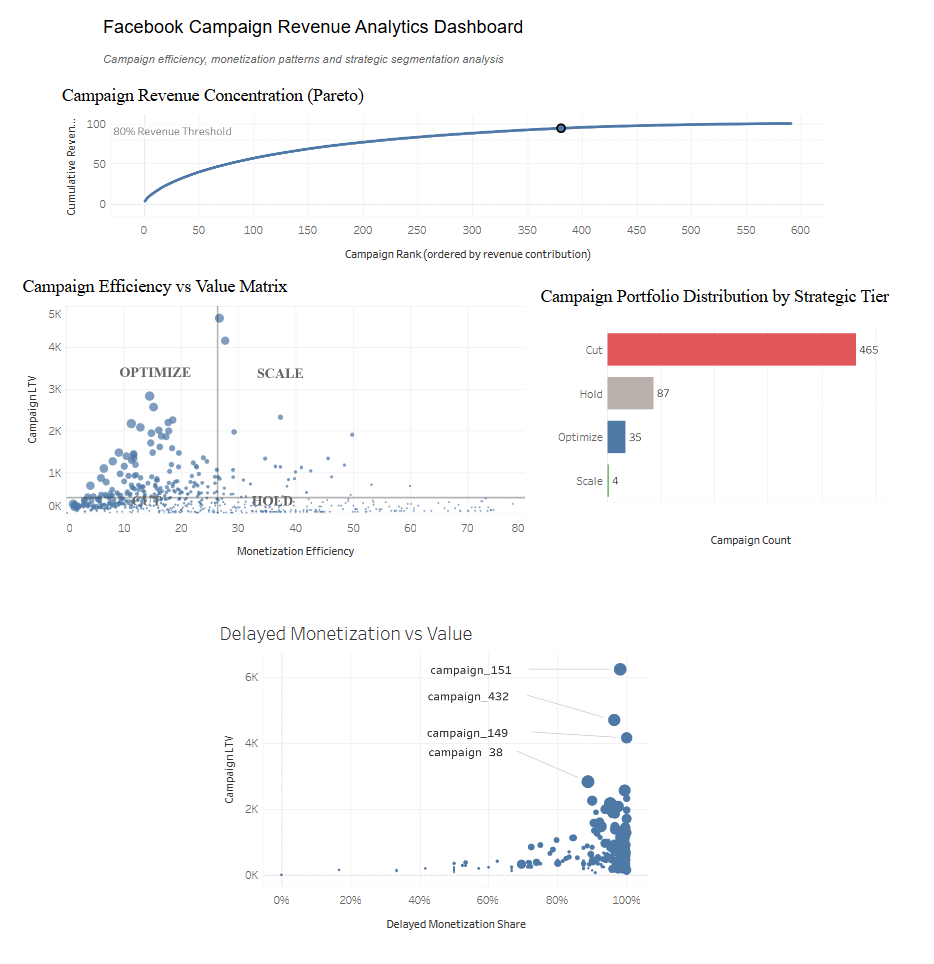

Layout of this report page (visuals, bound fields, positions):
{"tool":"tableau","page":{"name":"Dashboard","canvas":[1200,1400],"ordinal":0},"visuals":[{"type":"text","box":[129,9,746,110]},{"type":"worksheet","title":"Revenue Concentration (Pareto Analysis)","mark":"Line","rows":["cumulative_revenue_share_pct"],"cols":["campaign_rank"],"box":[78,107,876,214]},{"type":"worksheet","title":"Campaign Segment Distribution","mark":"Bar","rows":["campaign_tier"],"cols":["campaign"],"box":[625,323,409,325]},{"type":"worksheet","title":"Campaign Tier Matrix","mark":"Circle","rows":["total_ltv"],"cols":["monetization_efficiency"],"box":[33,325,578,336]},{"type":"worksheet","title":"Delayed Monetization vs Value","mark":"Circle","rows":["total_ltv"],"cols":["avg_late_payment_share"],"box":[258,721,495,367]}]}

Visuals, with their boxes on the page's 1200x1400 design canvas (x1, y1, x2, y2). These are canvas units, not pixel positions in the 934x964 screenshot, which may show the page scaled, cropped or inside an application window:
text: bbox(129, 9, 875, 119)
"Revenue Concentration (Pareto Analysis)" worksheet (Line marks): bbox(78, 107, 954, 321)
"Campaign Segment Distribution" worksheet (Bar marks): bbox(625, 323, 1034, 648)
"Campaign Tier Matrix" worksheet (Circle marks): bbox(33, 325, 611, 661)
"Delayed Monetization vs Value" worksheet (Circle marks): bbox(258, 721, 753, 1088)
